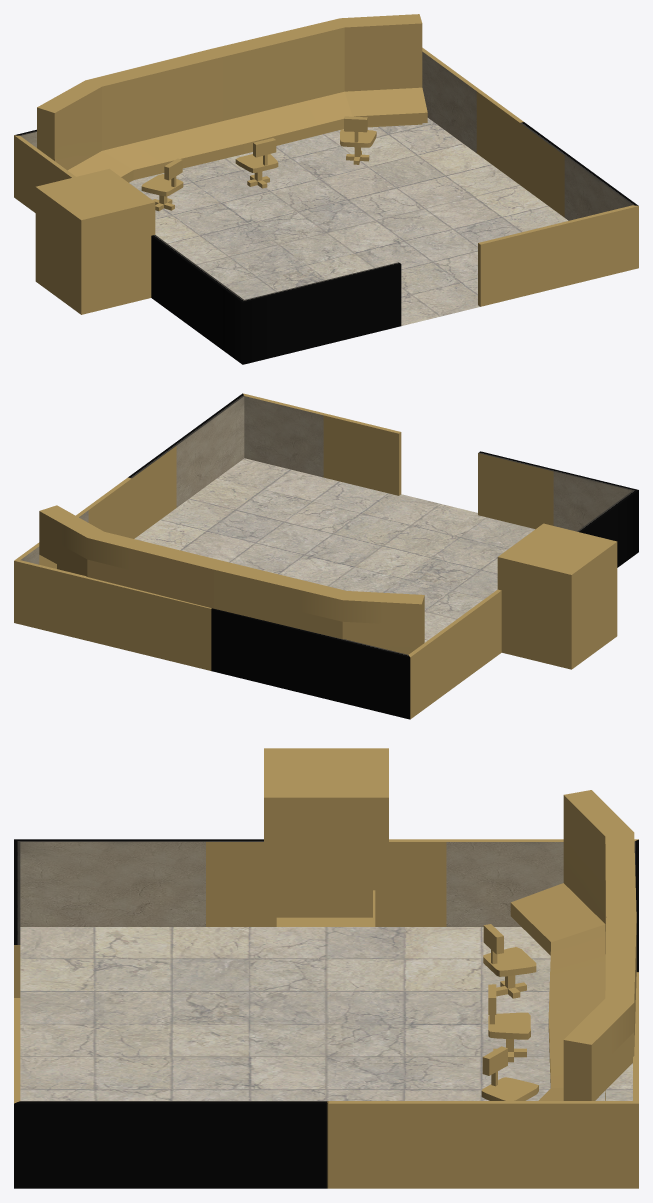
Rendered from Room1x1_ControlRoom.fbx.
3 renders of one model, top to bottom at view 1: azimuth 30°, elevation 25°; view 2: azimuth 150°, elevation 25°; view 3: azimuth 270°, elevation 25°, orthographic. The views are drawn at different scales.
Visible parts, largest first — view 1: ControlRoom; view 2: ControlRoom; view 3: ControlRoom, ElevatorDoor.
Part boxes in pixels (x1,y1,x2,y2): ControlRoom: (14, 14, 638, 364); ControlRoom: (14, 393, 638, 719); ControlRoom: (14, 748, 638, 1188); ElevatorDoor: (276, 808, 372, 917).
Bounding box in the file's own units: 11.77 × 2.45 × 10.
Materials: 1 (1 with a texture image).
